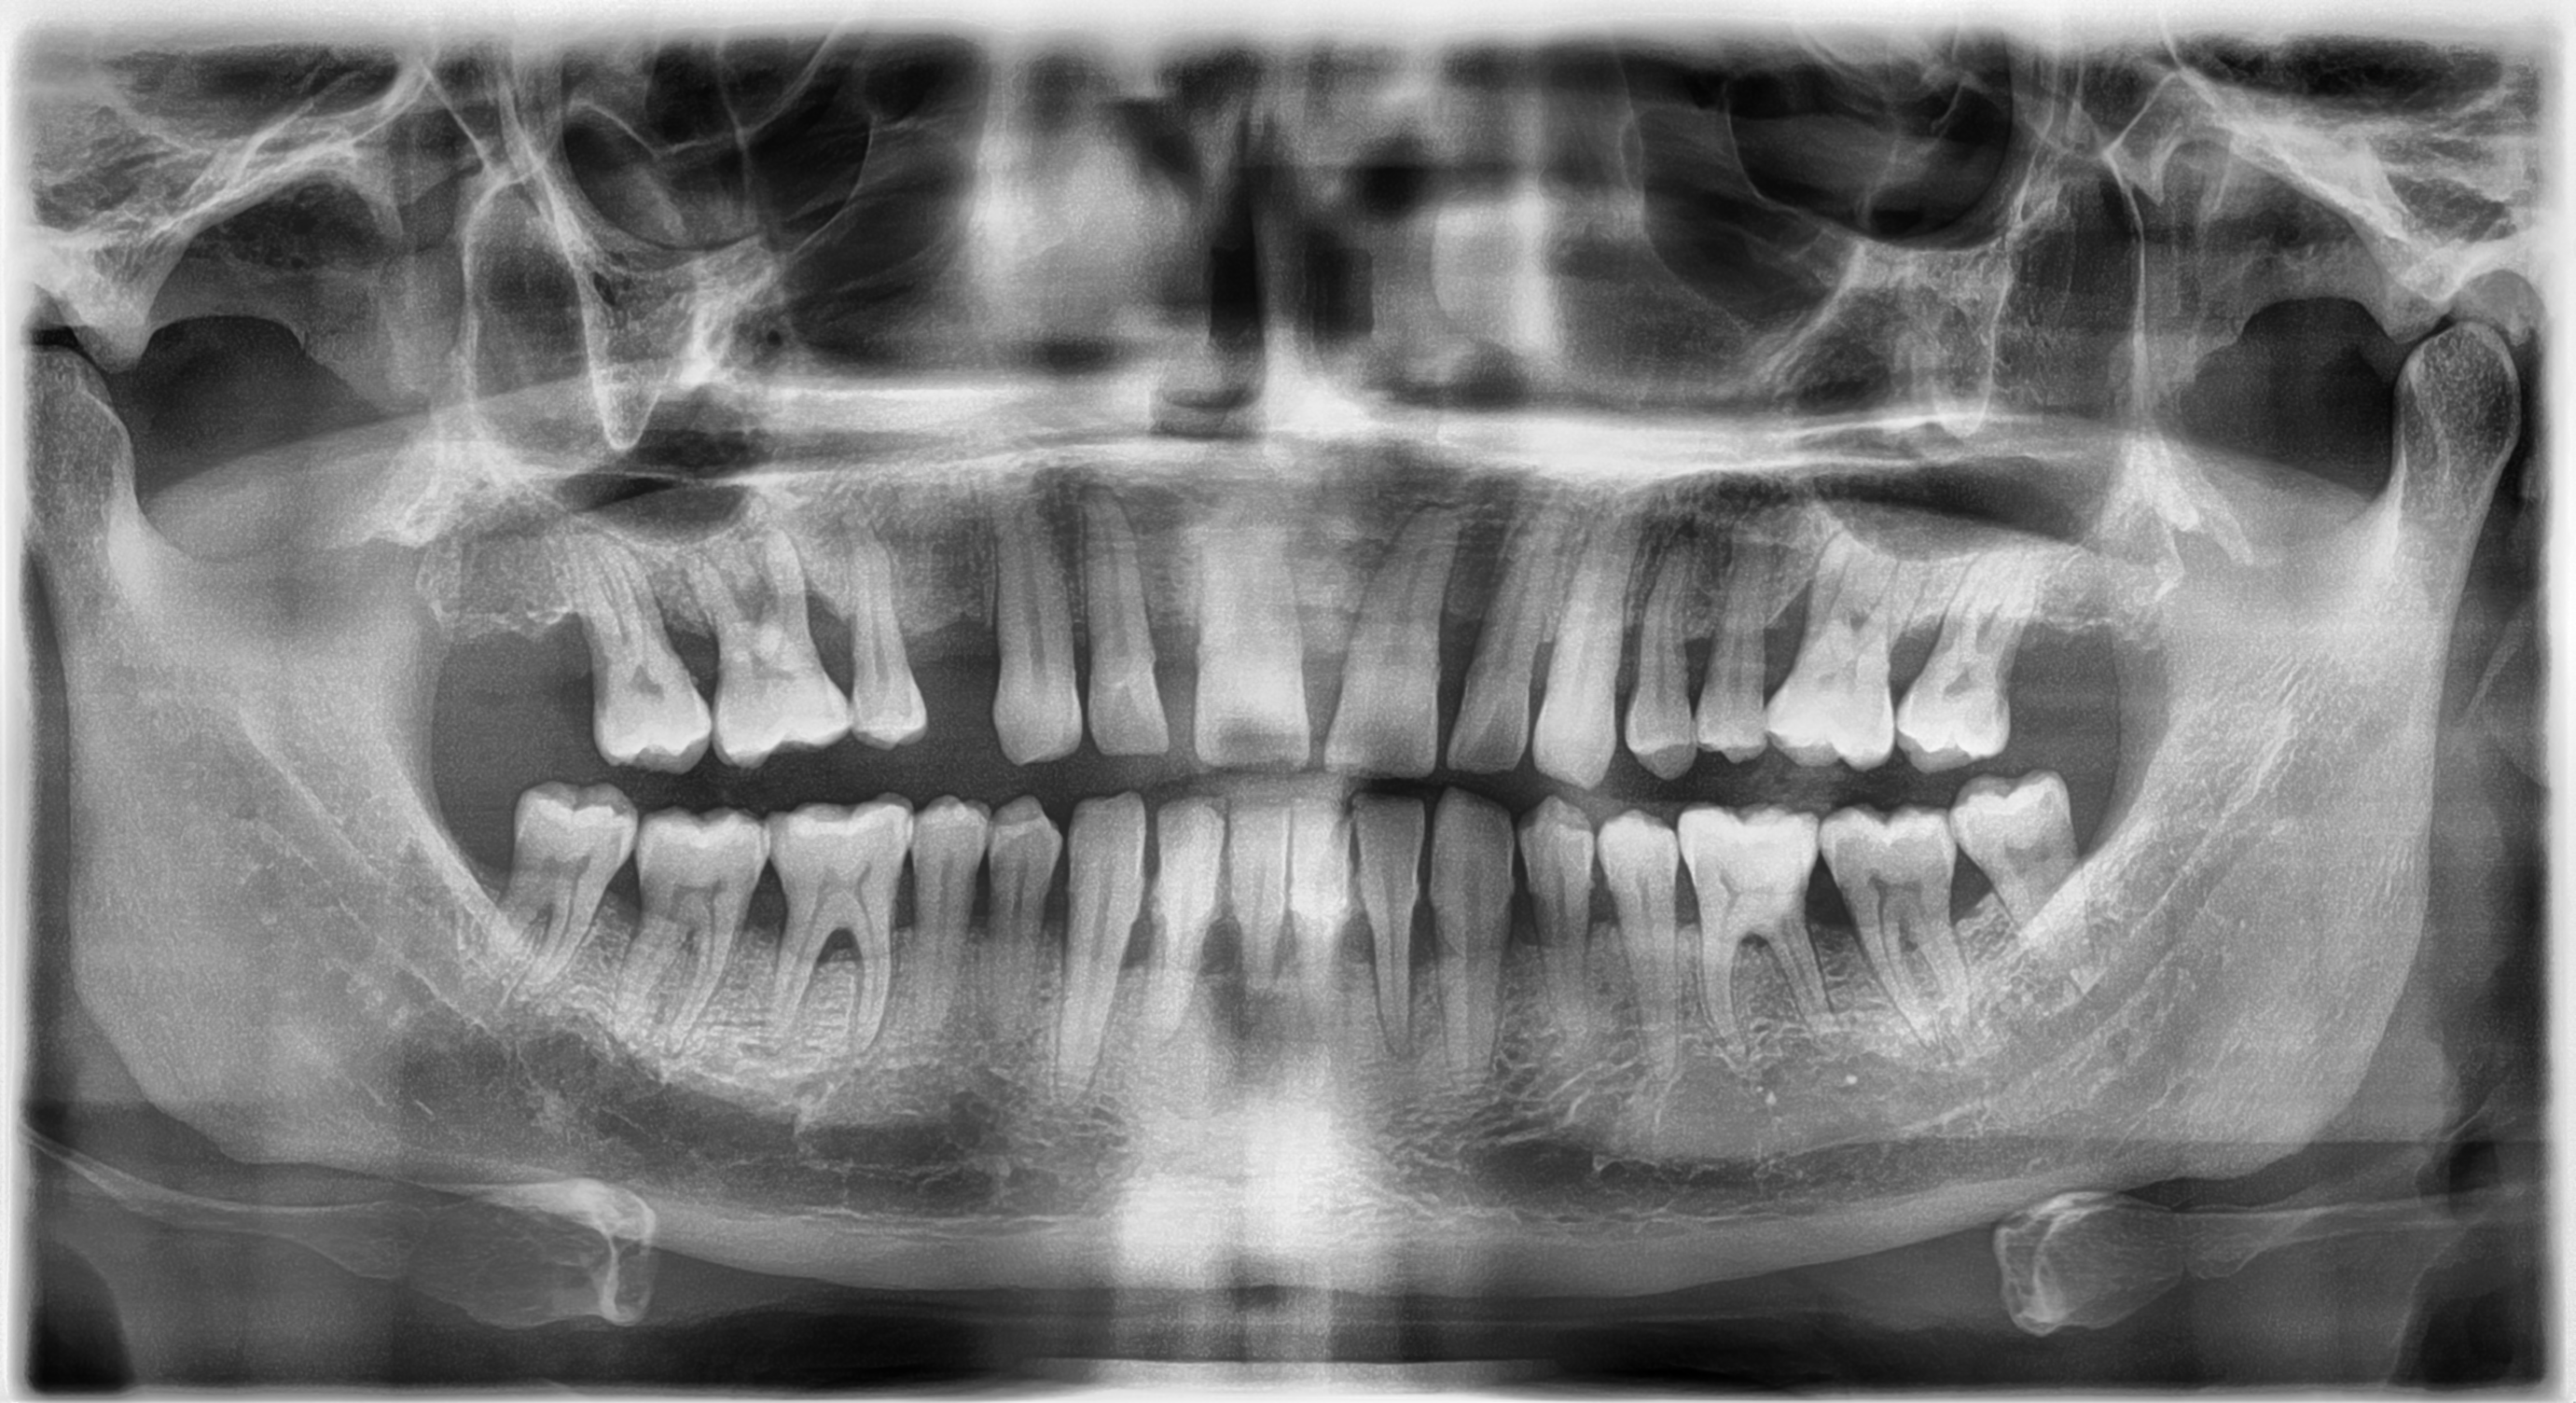cordal: (454, 771, 653, 992), (1930, 760, 2129, 981)
diastema: (1136, 510, 1233, 764), (1269, 522, 1366, 776), (1402, 534, 1499, 788)
zona_dentula: (882, 499, 1024, 764)
